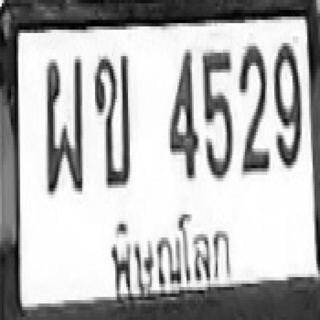A02: (93, 53, 130, 185)
A28: (44, 53, 82, 191)
N02: (238, 41, 269, 170)
N04: (168, 46, 197, 175)
N05: (201, 48, 232, 177)
N09: (272, 38, 300, 163)
P46: (104, 207, 236, 296)
